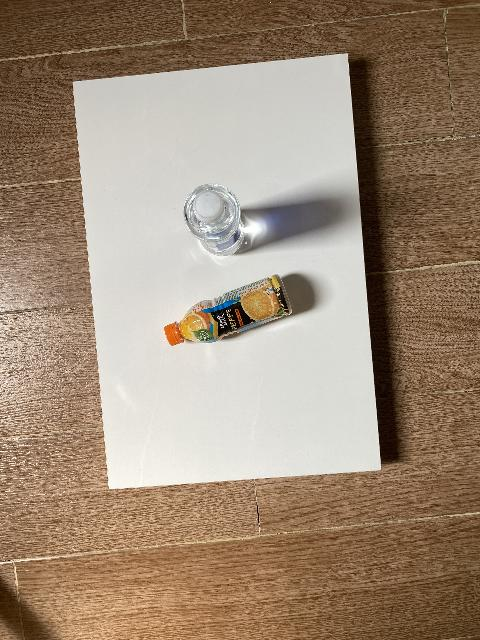aquafina: (183, 184, 245, 256)
teppy_orange_juice: (165, 274, 292, 346)
